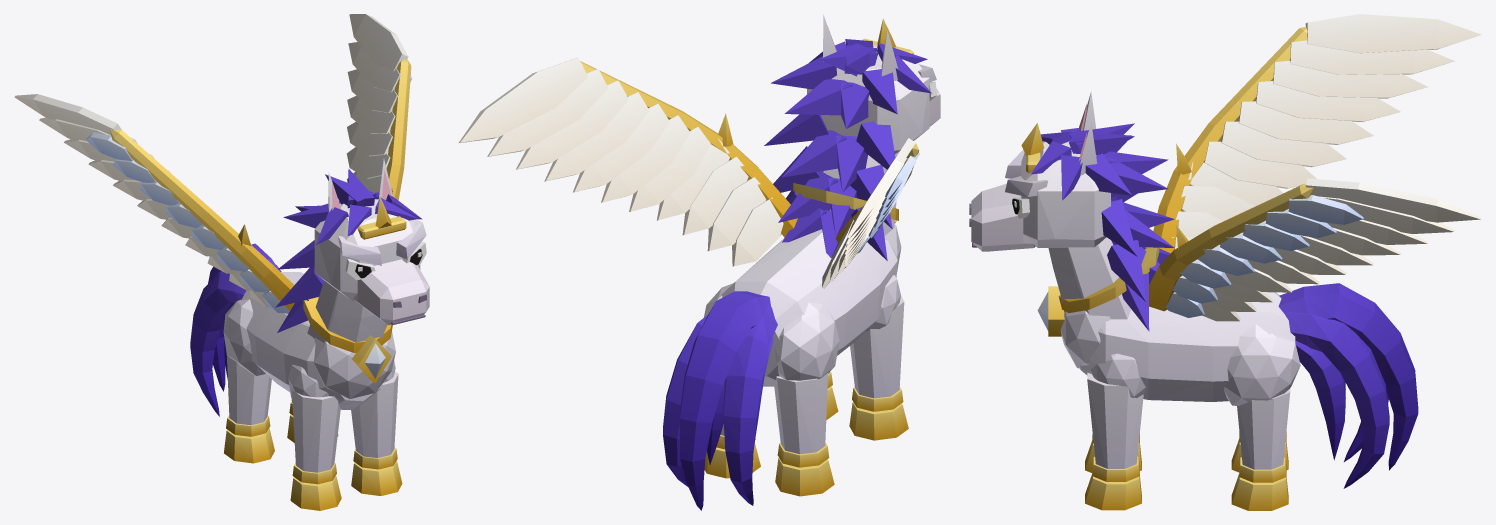
Rendered from StarPegasus.glb.
The picture shows the model from 3 angles, left to right: view 1: azimuth 30°, elevation 25°; view 2: azimuth 150°, elevation 25°; view 3: azimuth 270°, elevation 25°; orthographic projection. The views are drawn at different scales.
Visible parts, largest first — view 1: star_pegasus; view 2: star_pegasus; view 3: star_pegasus.
Part boxes in pixels (bbox=[...]): star_pegasus: bbox=[14, 14, 429, 510]; star_pegasus: bbox=[458, 14, 940, 510]; star_pegasus: bbox=[969, 14, 1481, 510].
Size of the model in its own units: 1.23 by 1.18 by 1.43.
Materials: 1 (1 with a texture image).
